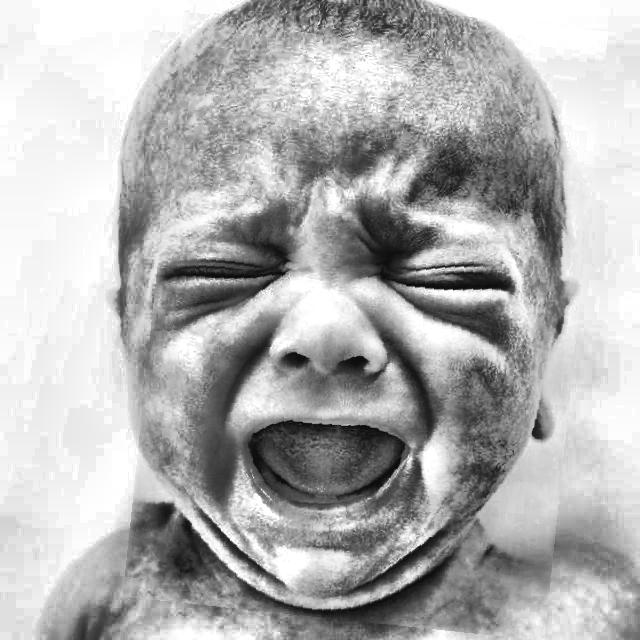sad: (138, 0, 593, 630)
